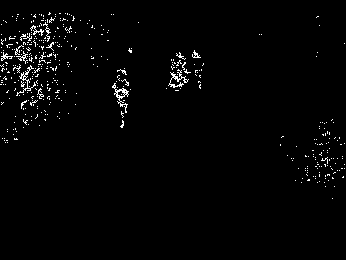person: (114, 67, 130, 131), (190, 50, 208, 92)
